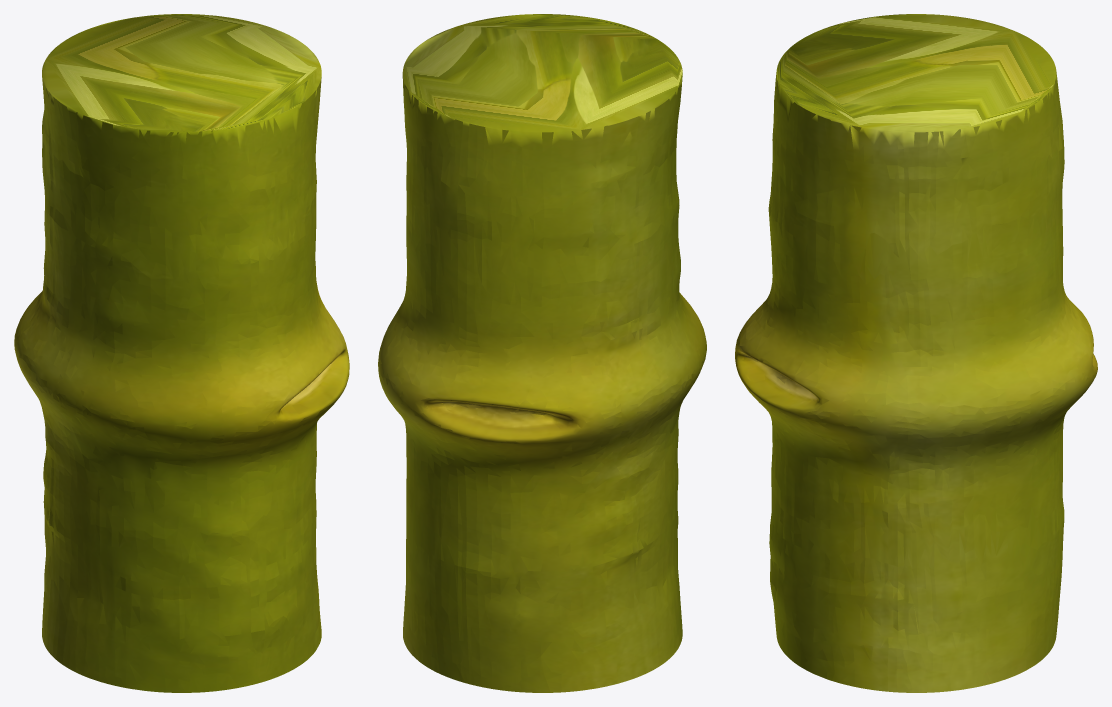
File: stem-b.glb
The picture shows the model from 3 angles, left to right: view 1: azimuth 30°, elevation 25°; view 2: azimuth 150°, elevation 25°; view 3: azimuth 270°, elevation 25°; orthographic projection.
Visible parts, largest first — view 1: sunflower-new_Stem_B; view 2: sunflower-new_Stem_B; view 3: sunflower-new_Stem_B.
Boxes of the visible parts, x1,y1,x2,y2 form: sunflower-new_Stem_B: (14,14,349,692); sunflower-new_Stem_B: (378,14,706,692); sunflower-new_Stem_B: (735,14,1097,692).
Size of the model in its own units: 0.0615 by 0.12 by 0.0704.
1 material, 1 textured.
